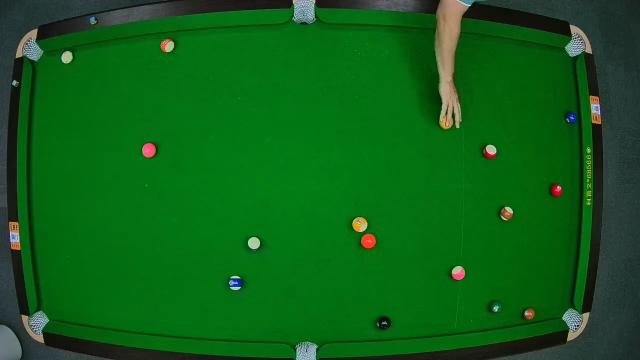bag1: (24, 40, 40, 62)
bag2: (292, 2, 316, 22)
bag3: (566, 34, 584, 56)
bag4: (27, 310, 49, 336)
bag5: (295, 342, 319, 360)
bag6: (562, 308, 584, 332)
ball0: (59, 49, 75, 65)
ball10: (227, 276, 245, 292)
ball11: (482, 144, 500, 160)
ball12: (449, 266, 466, 280)
ball13: (160, 37, 177, 55)
ball14: (246, 235, 264, 251)
ball15: (500, 204, 514, 222)
ball2: (565, 110, 579, 126)
ball3: (550, 182, 564, 198)
ball4: (140, 142, 156, 158)
ball5: (360, 233, 378, 249)
ball6: (488, 300, 504, 314)
ball7: (522, 306, 536, 322)
ball8: (376, 315, 392, 331)
ball9: (352, 216, 368, 234)
